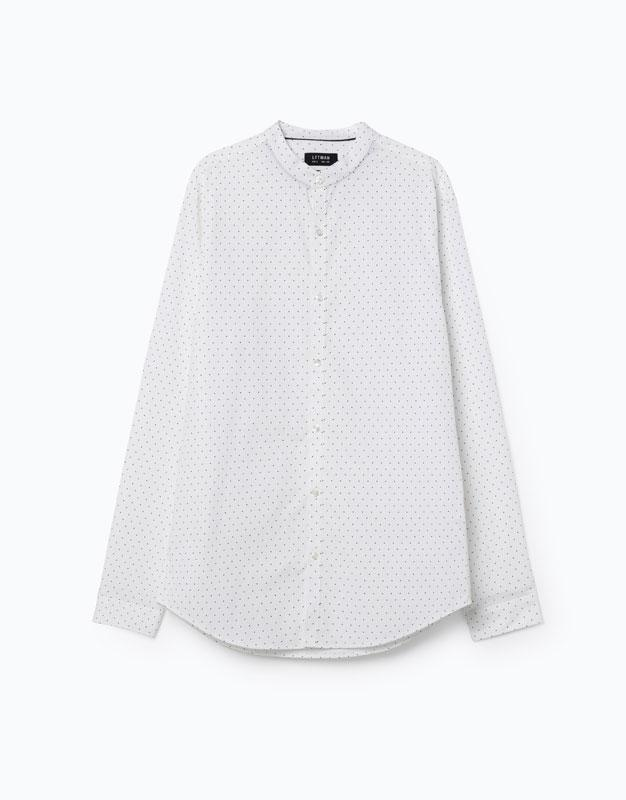teeshirt: (91, 114, 561, 679)
